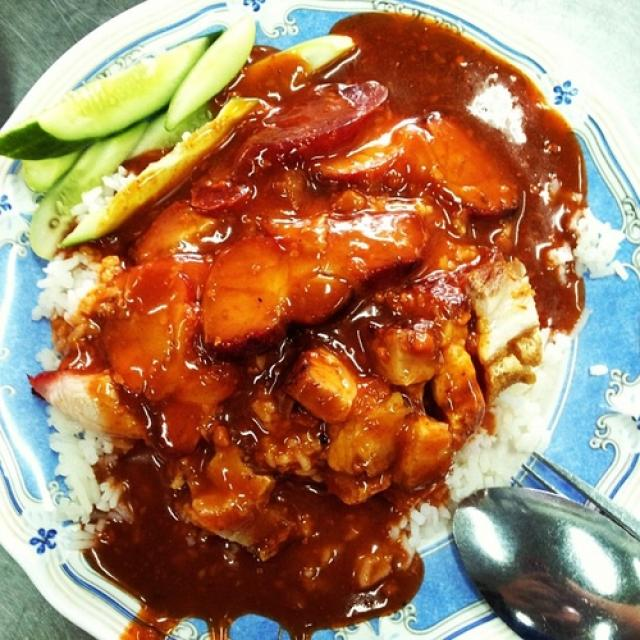猪肉菜式: (18, 8, 609, 620)
